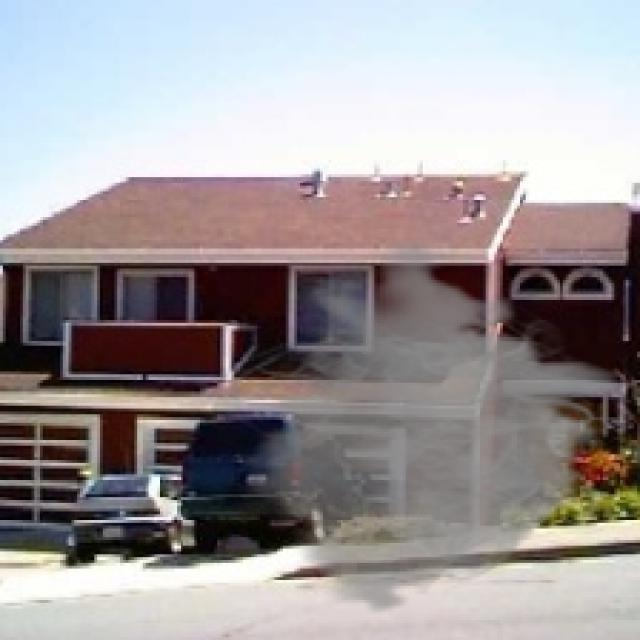smoke: (212, 237, 634, 614)
